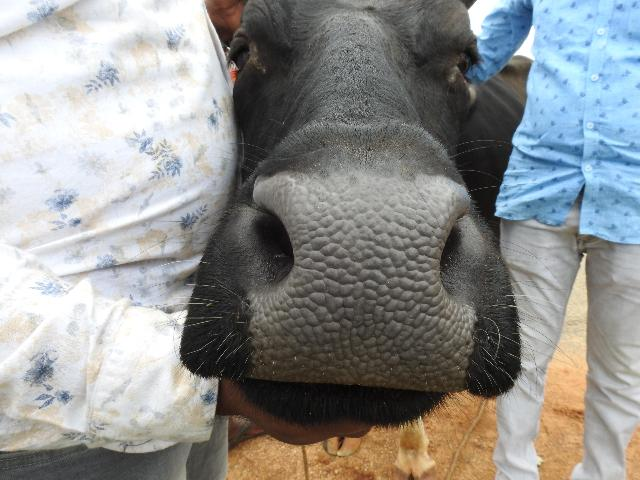Muzzle: (276, 186, 450, 372)
